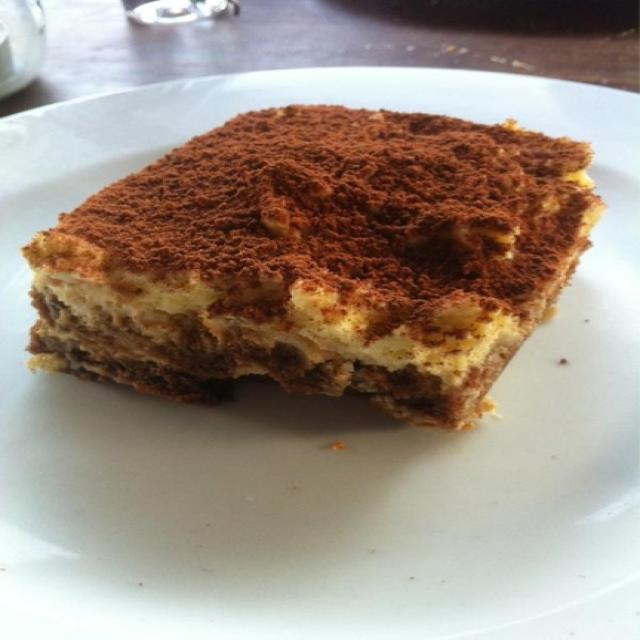蛋糕甜品: (13, 36, 621, 608)
